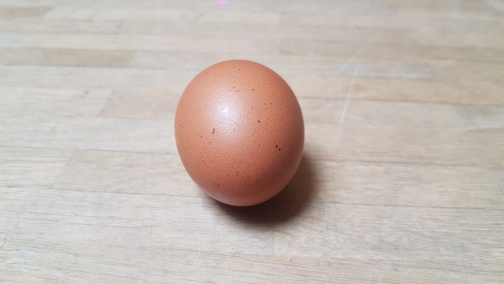egg: (174, 58, 305, 208)
